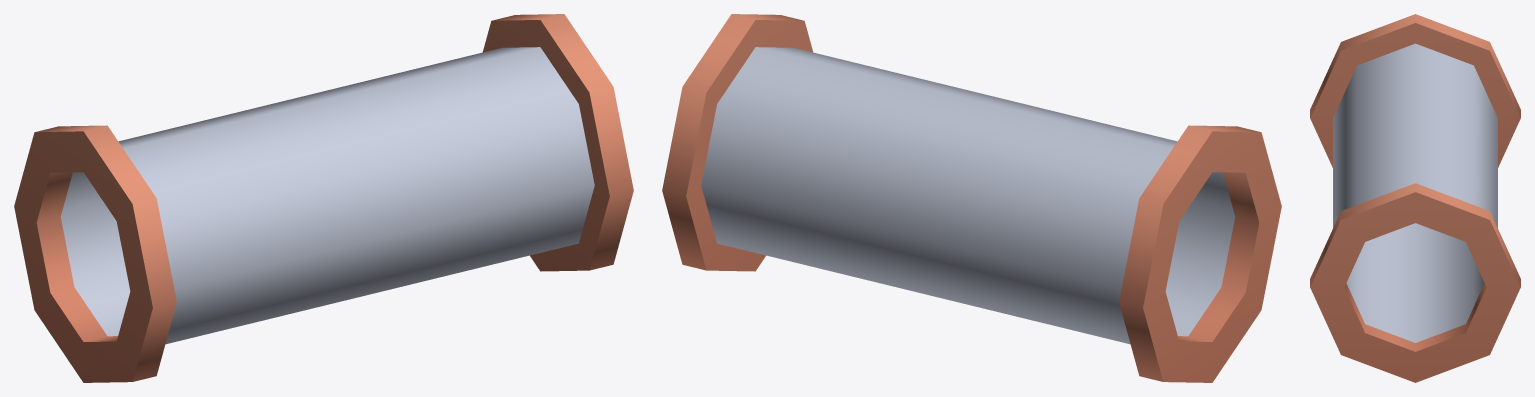
Rendered from pipe-glass-large-long.obj.
The picture shows the model from 3 angles, left to right: view 1: azimuth 30°, elevation 25°; view 2: azimuth 150°, elevation 25°; view 3: azimuth 270°, elevation 25°; orthographic projection. The views are drawn at different scales.
Parts seen in each view (by area): view 1: pipe-glass-large-long; view 2: pipe-glass-large-long; view 3: pipe-glass-large-long.
Part boxes in pixels (x1=…): pipe-glass-large-long: x1=14, y1=14, x2=633, y2=382; pipe-glass-large-long: x1=662, y1=14, x2=1281, y2=382; pipe-glass-large-long: x1=1310, y1=14, x2=1520, y2=382.
Size of the model in its own units: 2 by 1 by 1.
